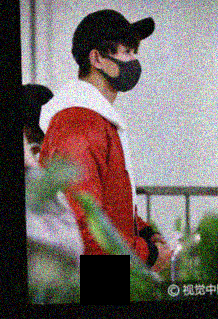with_mask: (105, 45, 143, 94)
